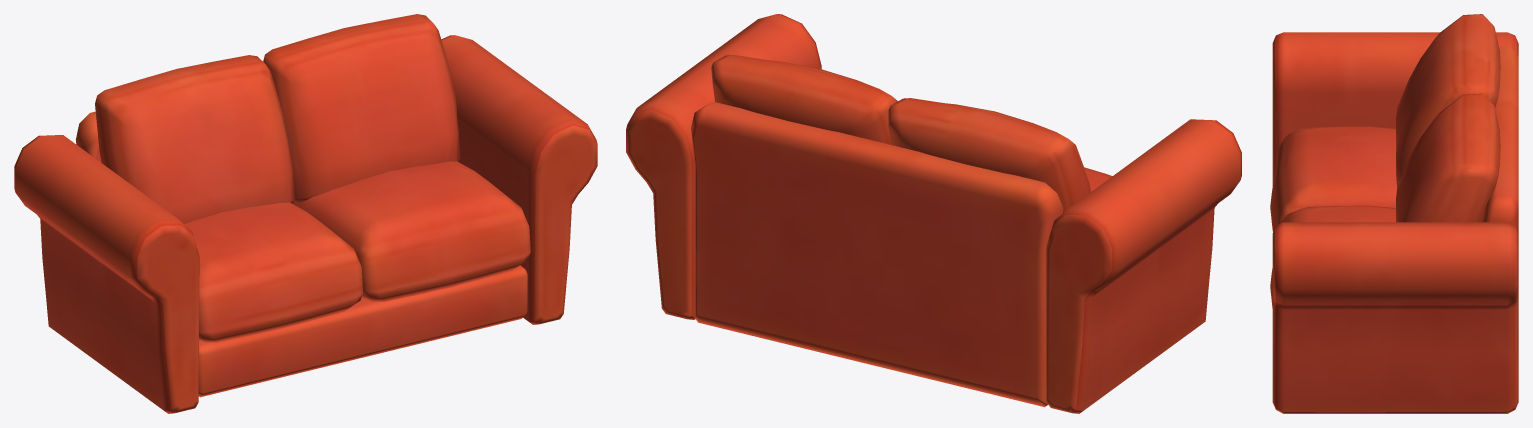
3 renders of one model, left to right at view 1: azimuth 30°, elevation 25°; view 2: azimuth 150°, elevation 25°; view 3: azimuth 270°, elevation 25°, orthographic. The views are drawn at different scales.
Bounding box in the file's own units: 18.32 × 9.12 × 8.7.
1 material, 1 textured.
